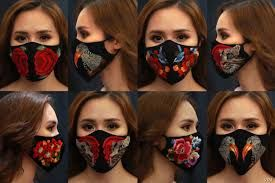with-mask: (144, 3, 206, 85), (211, 3, 273, 84), (214, 96, 273, 180), (74, 94, 134, 174), (151, 96, 208, 176), (7, 10, 66, 86), (74, 7, 131, 79), (18, 94, 67, 174)
